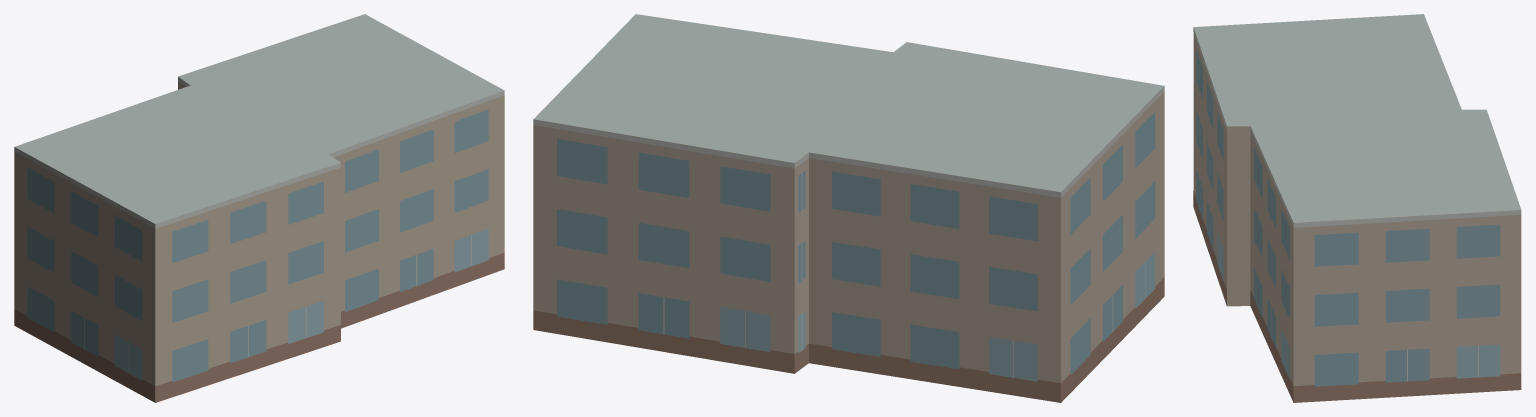
File: survey-upis-32720345.glb
3 views of the same model, side by side, from view 1: azimuth 30°, elevation 25°; view 2: azimuth 150°, elevation 25°; view 3: azimuth 270°, elevation 25° (orthographic). The views are drawn at different scales.
Visible parts, largest first — view 1: survey-upis-32720345.tmp; view 2: survey-upis-32720345.tmp; view 3: survey-upis-32720345.tmp.
Part boxes in pixels (x1,y1,x2,y2): survey-upis-32720345.tmp: (14,14,504,402); survey-upis-32720345.tmp: (533,14,1164,402); survey-upis-32720345.tmp: (1193,14,1521,402).
Bounding box in the file's own units: 22.8 × 9.15 × 15.13.
